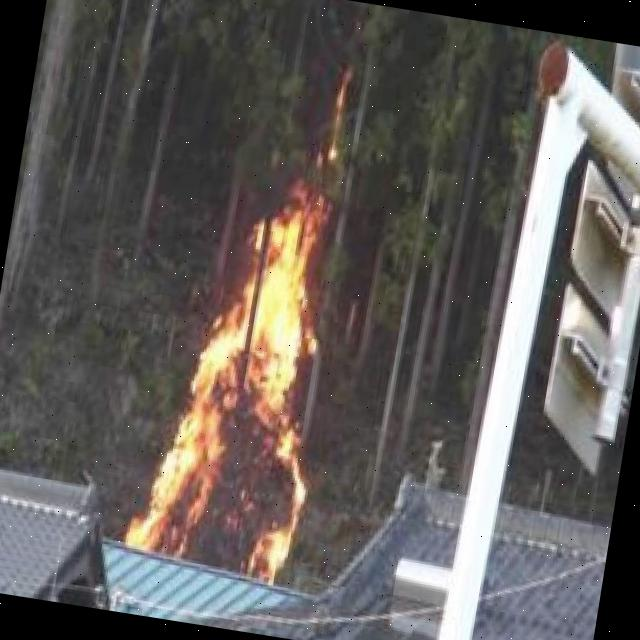fire: (133, 183, 354, 581)
